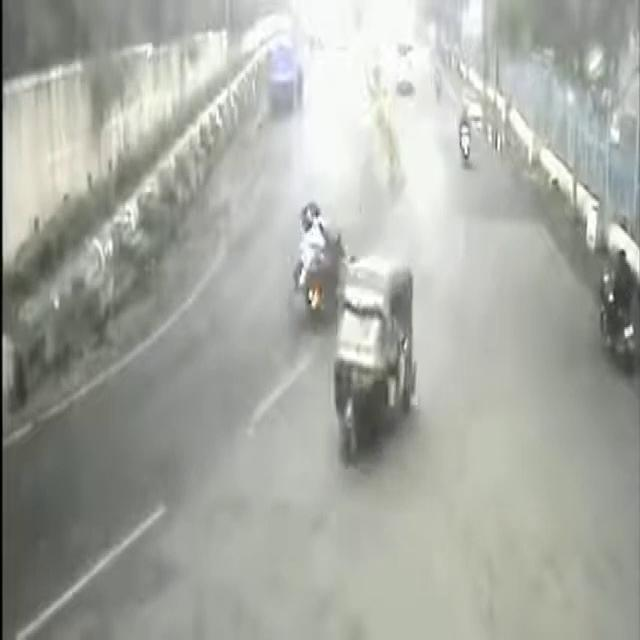accident: (288, 189, 345, 338)
